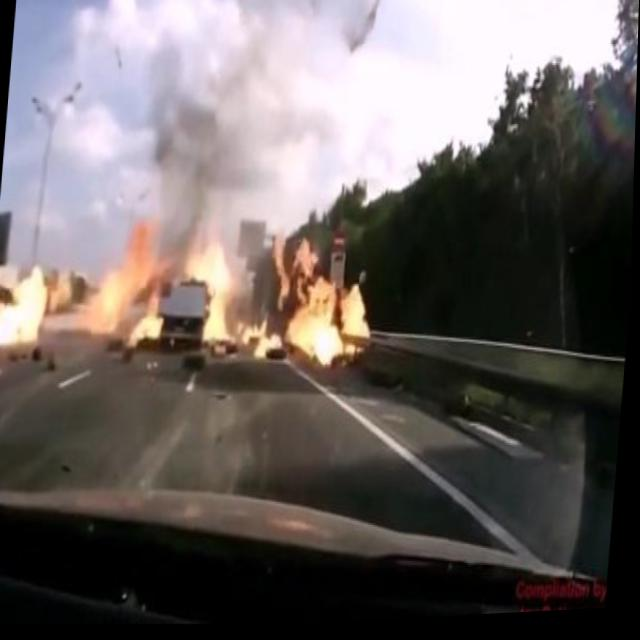fire: (73, 201, 254, 380), (259, 214, 387, 392), (0, 250, 55, 358)
